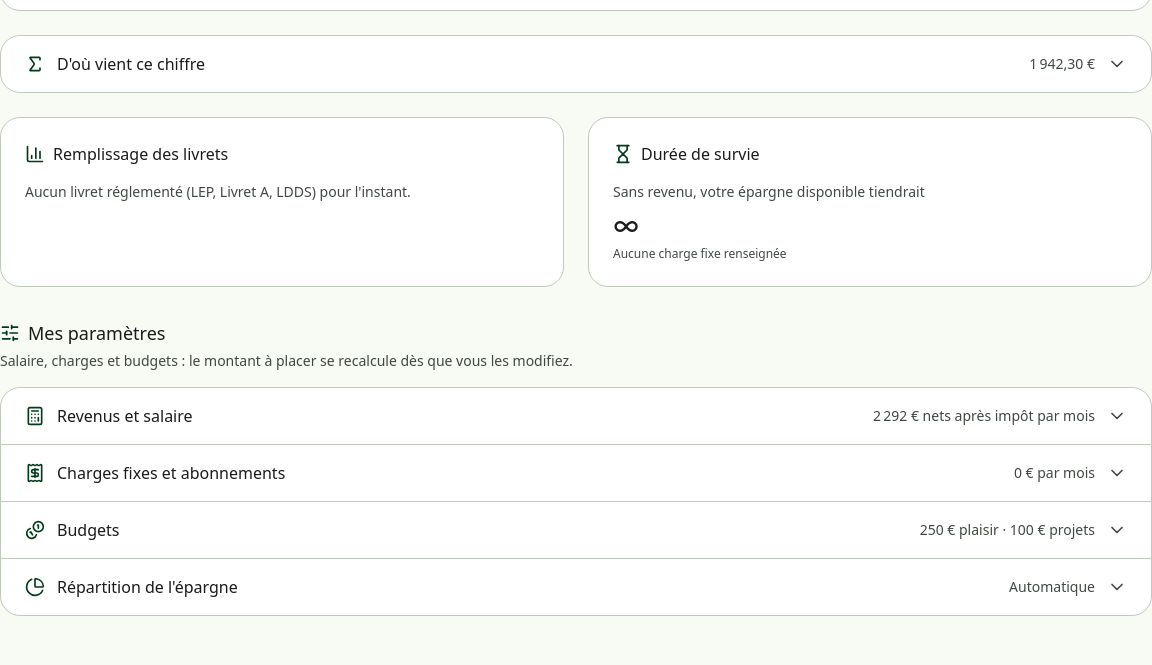
Test: Pilotage : réglages › une valeur reprise d’un ancien fichier s’affiche dans le détail du salaire
(page scrolled)
Click the button "Revenus et salaire 2 292 € nets après impôt par mois" at point(125, 416), box 1,388 -> 1151,444
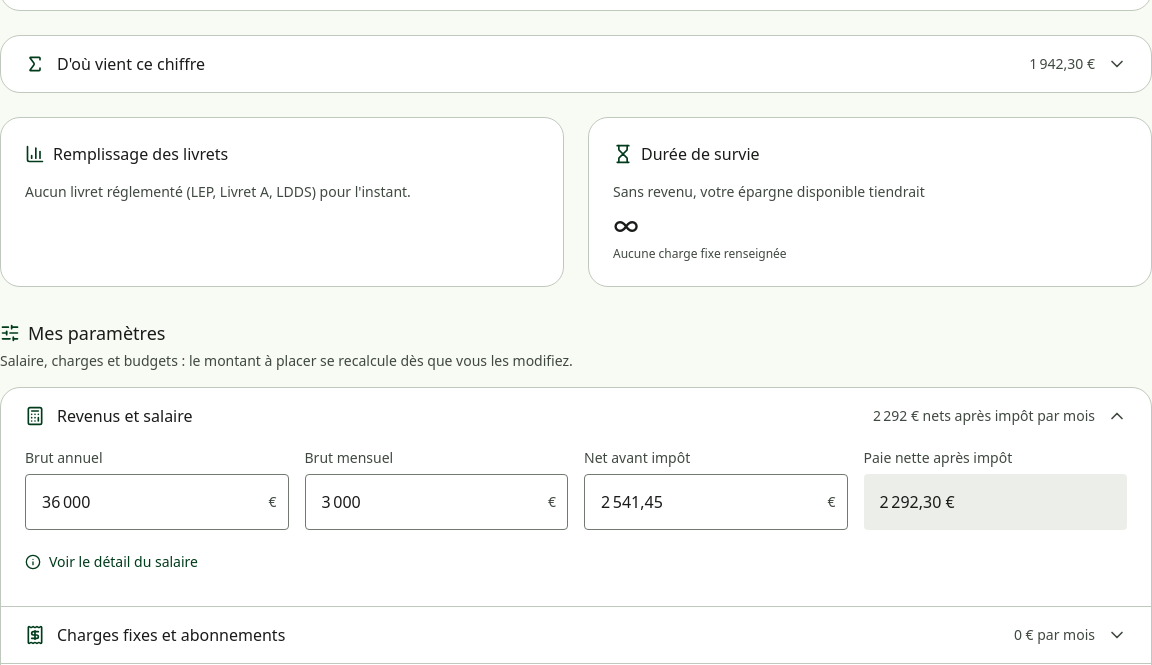
Click the button "Voir le détail du salaire" at point(112, 562), box 13,542 -> 210,582
(page scrolled)
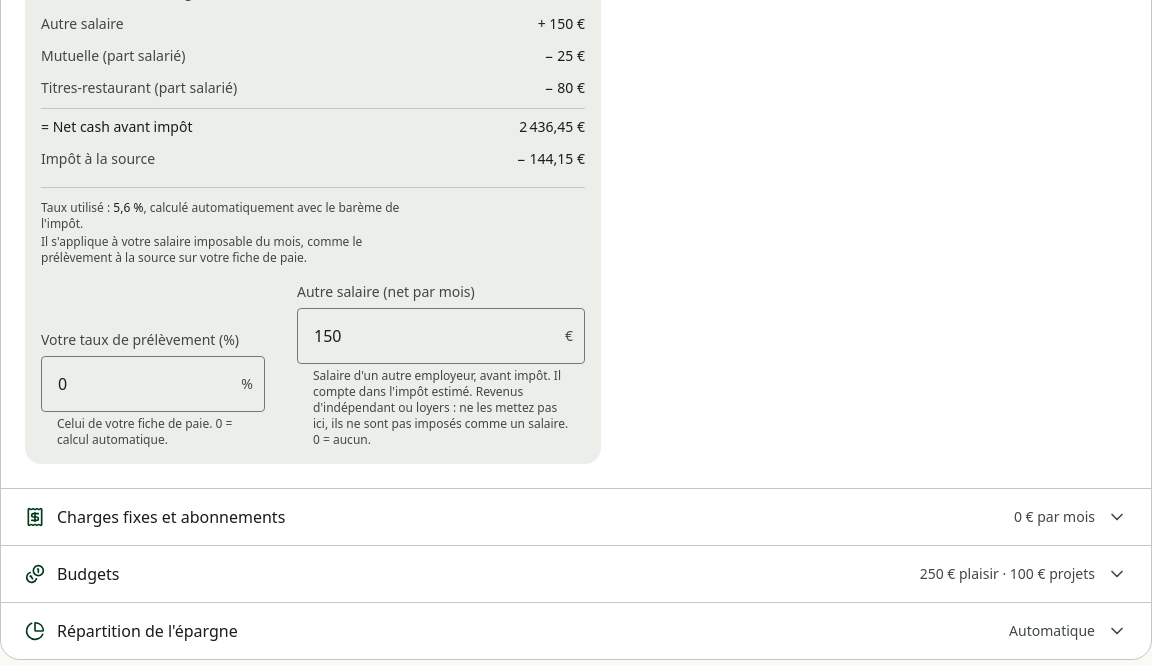
Expected: the text "Autre salaire" is shown, 41,14 -> 124,34
Expected: the field labelled "Autre salaire (net par mois)" holds "150", 297,308 -> 585,364
